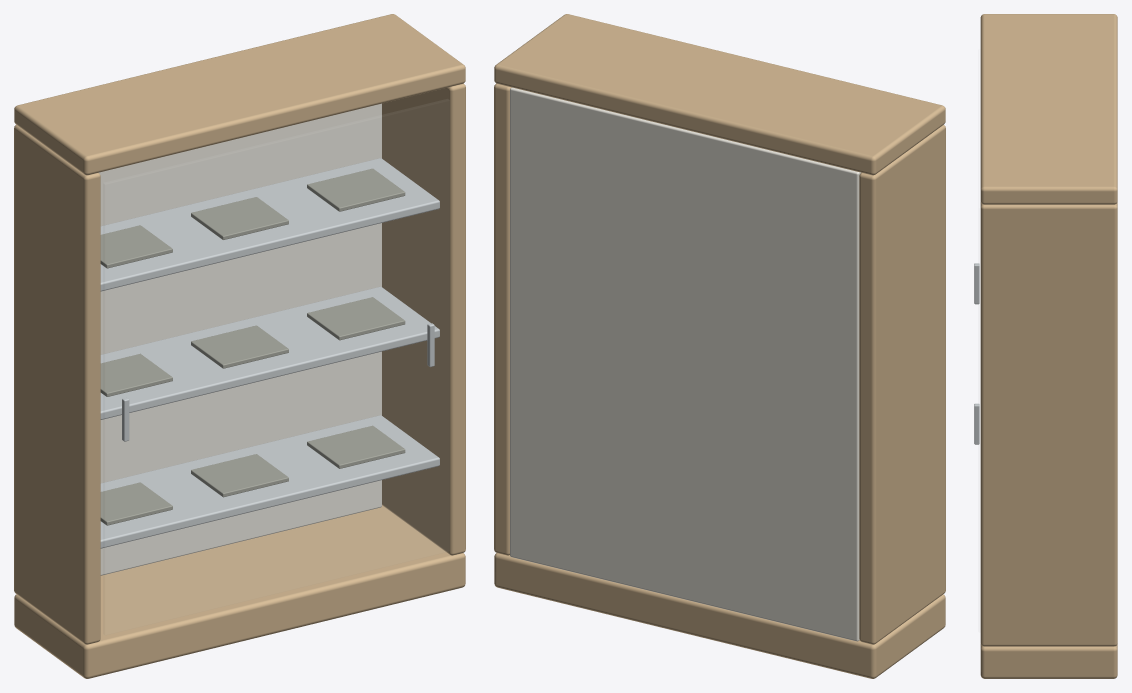
File: hearing-aid-and-audiology-clinic-hearing-device-retail-a77854f5__31762.glb
3 renders of one model, left to right at view 1: azimuth 30°, elevation 25°; view 2: azimuth 150°, elevation 25°; view 3: azimuth 270°, elevation 25°, orthographic. The views are drawn at different scales.
Parts seen in each view (by area): view 1: hearing-device-retail-cabinet; view 2: hearing-device-retail-cabinet; view 3: hearing-device-retail-cabinet.
Boxes of the visible parts, x1,y1,x2,y2 form: hearing-device-retail-cabinet: (14,14,465,678); hearing-device-retail-cabinet: (494,14,945,678); hearing-device-retail-cabinet: (974,14,1117,678).
Size of the model in its own units: 1.15 by 1.5 by 0.3975.
